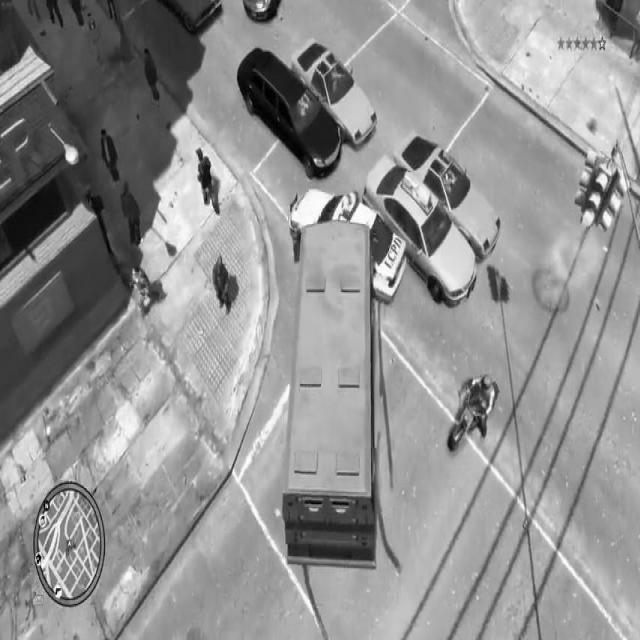severe: (282, 178, 410, 570)
